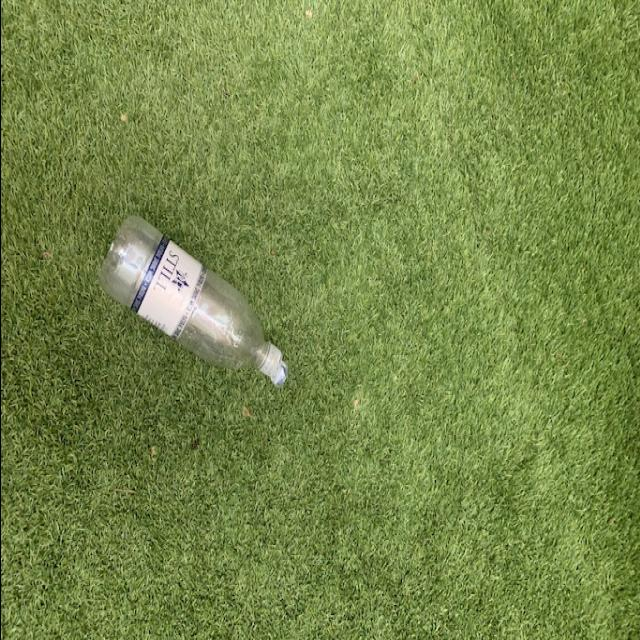PET: (96, 216, 290, 384)
